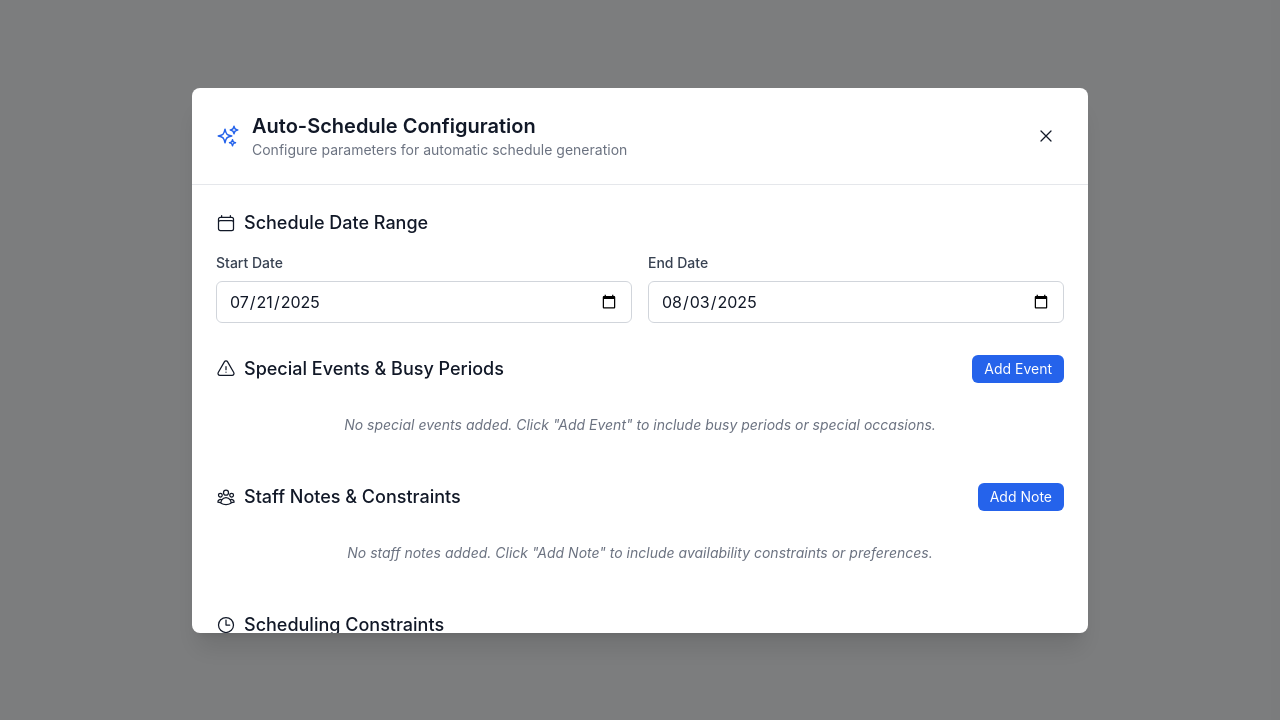
it: AutoScheduleModal › Special Events Management › should show event form when Add Event is clicked
Click the button "Add Event". click: (1018, 368)
box: [972,354,1064,382]
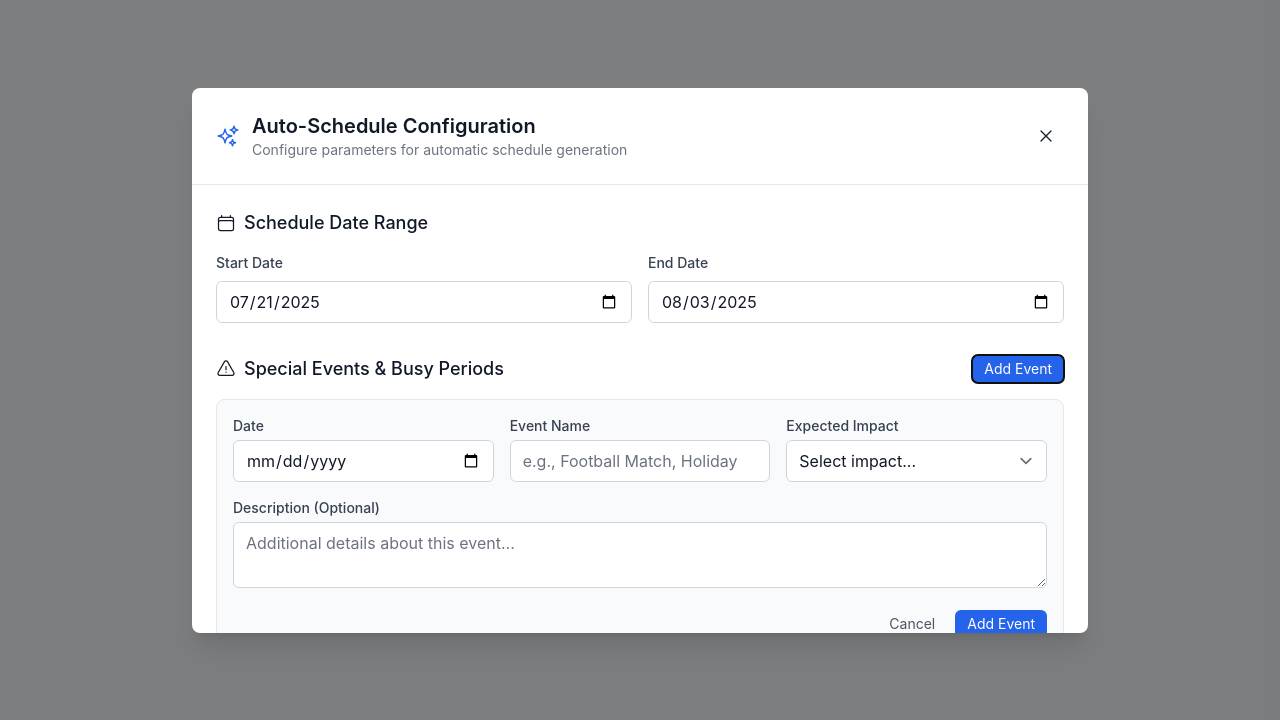
Now the field with placeholder "e.g., Football Match, Holiday" is shown, box [510,440,770,482]
